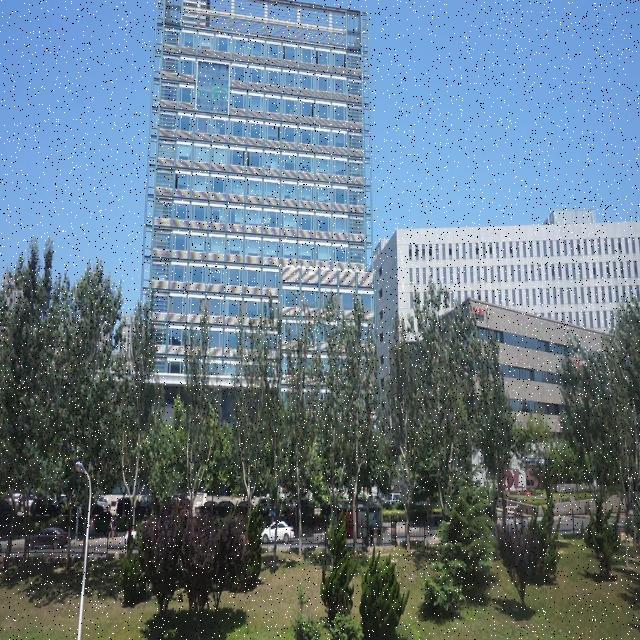UAV: (571, 352, 587, 376)
